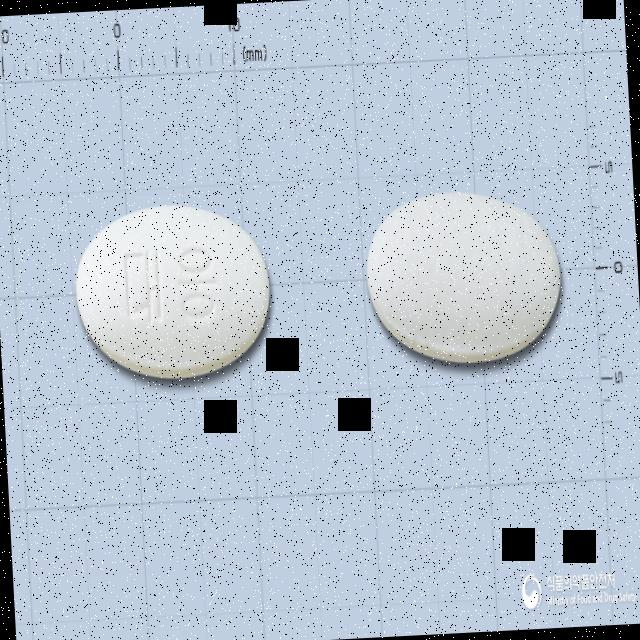Moxicle Tab-625mg: (72, 197, 274, 384)
